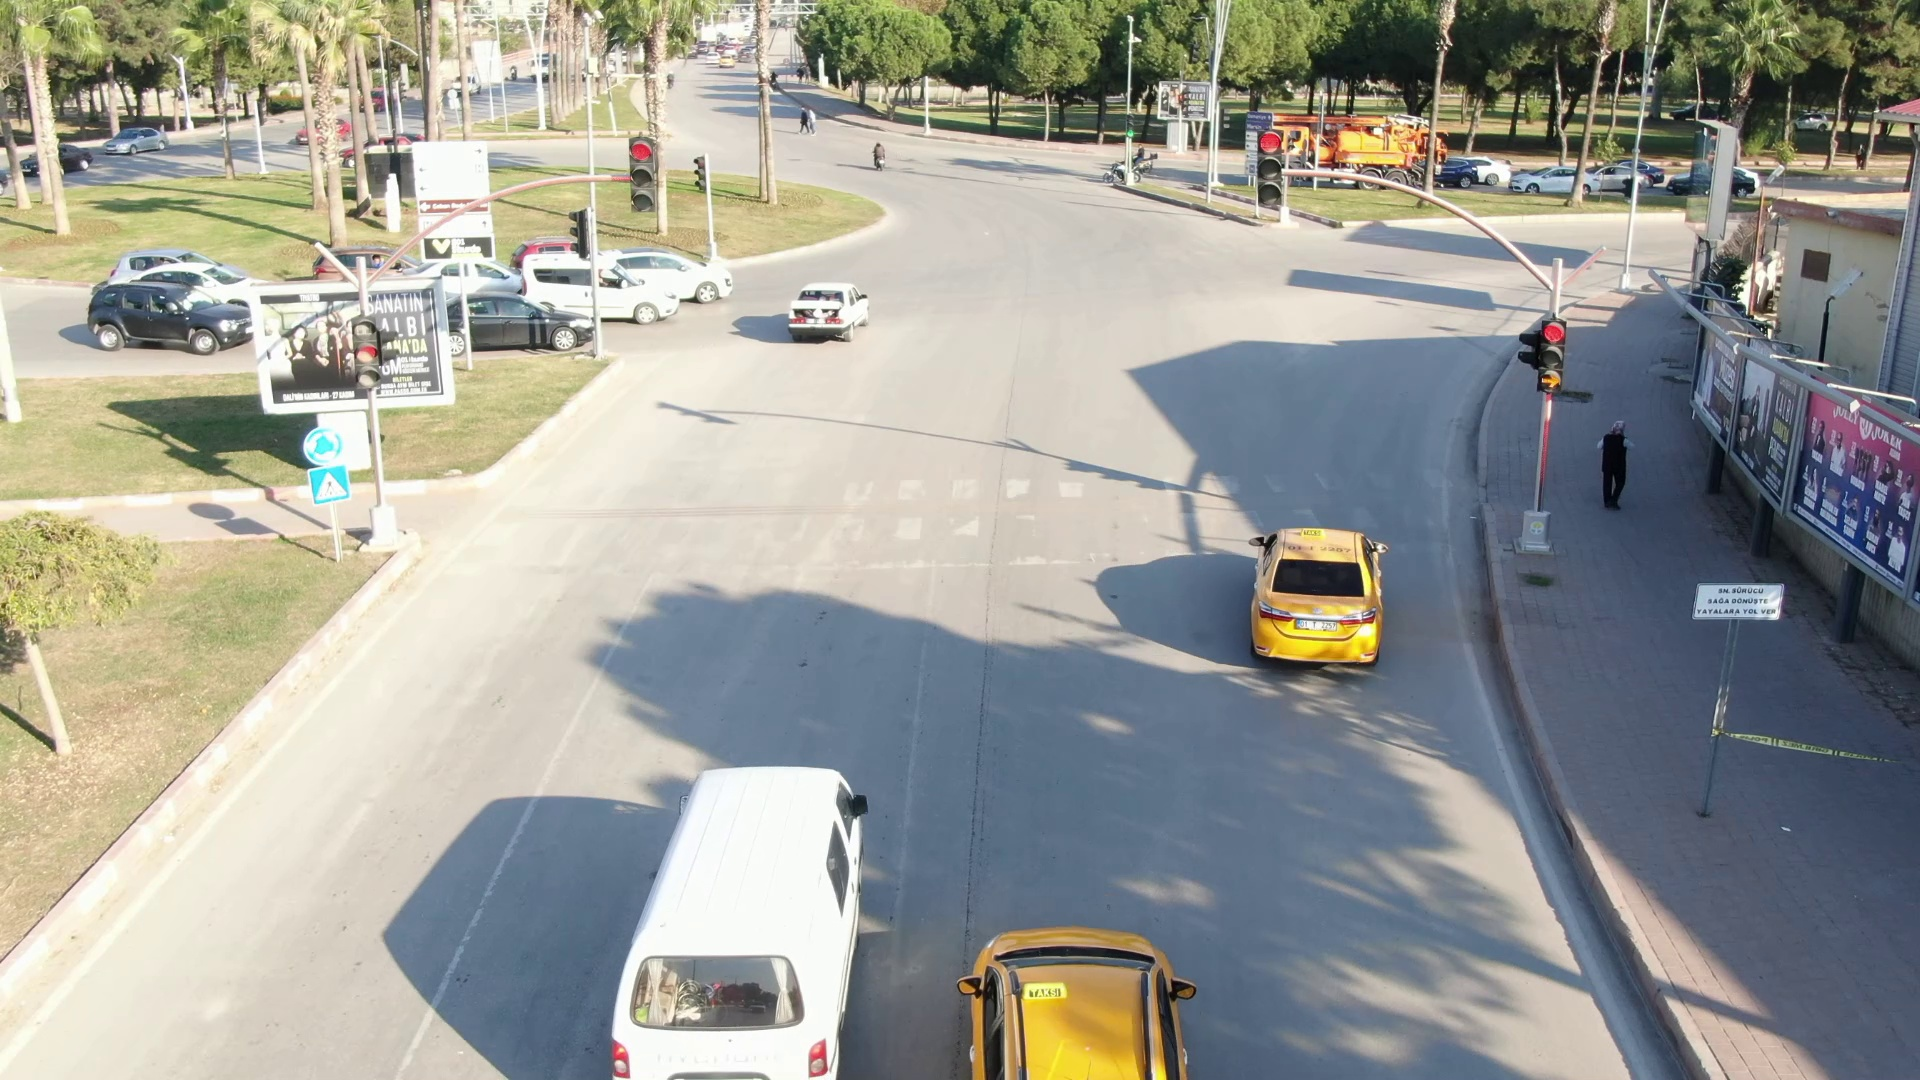car: (589, 778, 898, 1080), (958, 927, 1204, 1080), (1245, 519, 1398, 670), (74, 284, 259, 355), (515, 247, 682, 323), (435, 290, 600, 353), (623, 243, 745, 304), (776, 282, 882, 349)
person: (1588, 419, 1645, 521), (857, 133, 892, 172)
